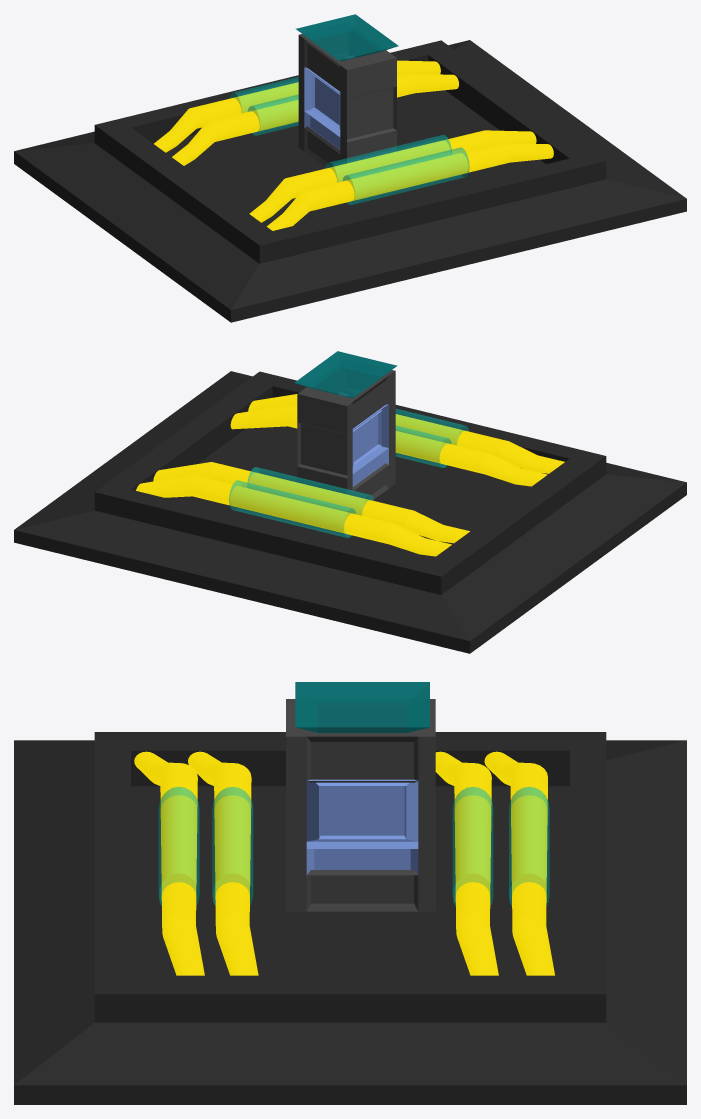
Rendered from Power_Room_01.fbx.
The picture shows the model from 3 angles, top to bottom: view 1: azimuth 30°, elevation 25°; view 2: azimuth 150°, elevation 25°; view 3: azimuth 270°, elevation 25°; orthographic projection. The views are drawn at different scales.
Visible parts, largest first — view 1: pCube1, polySurface3, pCylinder2, pCylinder3, pCylinder5, pCylinder1, pCylinder7, pCylinder4, pCylinder6, pCylinder8; view 2: pCube1, polySurface3, pCylinder7, pCylinder5, pCylinder3, pCylinder8, pCylinder2, pCylinder6, pCylinder4, pCylinder1; view 3: pCube1, polySurface3, pCylinder2, pCylinder7, pCylinder3, pCylinder5, pCylinder6, pCylinder1, pCylinder4, pCylinder8.
Part boxes in pixels (left/top/right/bottom): pCube1: left=14, top=40, right=686, bottom=322; polySurface3: left=296, top=14, right=398, bottom=167; pCylinder2: left=267, top=143, right=553, bottom=230; pCylinder3: left=249, top=130, right=536, bottom=222; pCylinder5: left=172, top=73, right=458, bottom=165; pCylinder1: left=342, top=147, right=469, bottom=205; pCylinder7: left=154, top=60, right=440, bottom=152; pCylinder4: left=325, top=134, right=451, bottom=182; pCylinder6: left=247, top=94, right=298, bottom=135; pCylinder8: left=229, top=77, right=298, bottom=112; pCube1: left=14, top=371, right=686, bottom=653; polySurface3: left=294, top=351, right=397, bottom=500; pCylinder7: left=136, top=475, right=451, bottom=556; pCylinder5: left=153, top=462, right=469, bottom=543; pCylinder3: left=230, top=405, right=547, bottom=486; pCylinder8: left=229, top=480, right=355, bottom=537; pCylinder2: left=248, top=394, right=564, bottom=473; pCylinder6: left=247, top=467, right=374, bottom=515; pCylinder4: left=395, top=425, right=451, bottom=467; pCylinder1: left=395, top=408, right=468, bottom=444; pCube1: left=14, top=732, right=686, bottom=1104; polySurface3: left=286, top=682, right=435, bottom=911; pCylinder2: left=134, top=751, right=204, bottom=975; pCylinder7: left=484, top=751, right=554, bottom=975; pCylinder3: left=188, top=751, right=258, bottom=975; pCylinder5: left=435, top=751, right=498, bottom=975; pCylinder6: left=452, top=786, right=493, bottom=906; pCylinder1: left=158, top=786, right=199, bottom=905; pCylinder4: left=212, top=786, right=253, bottom=905; pCylinder8: left=509, top=786, right=549, bottom=906.
Size of the model in its own units: 32.1 by 9.9 by 26.47.
